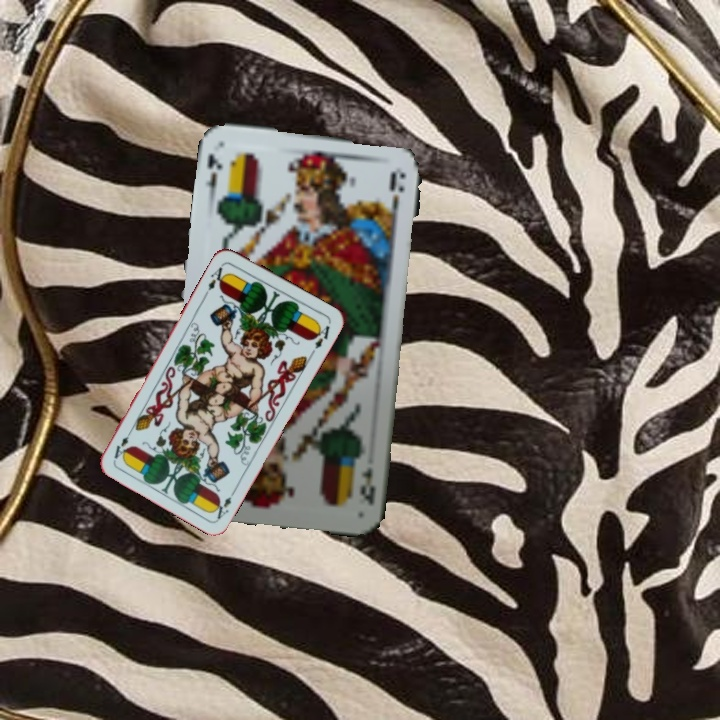EA: (209, 485, 239, 522), (204, 260, 230, 293)
EK: (201, 150, 225, 201), (356, 464, 378, 508)
